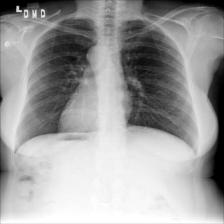normal: (8, 11, 203, 157)
